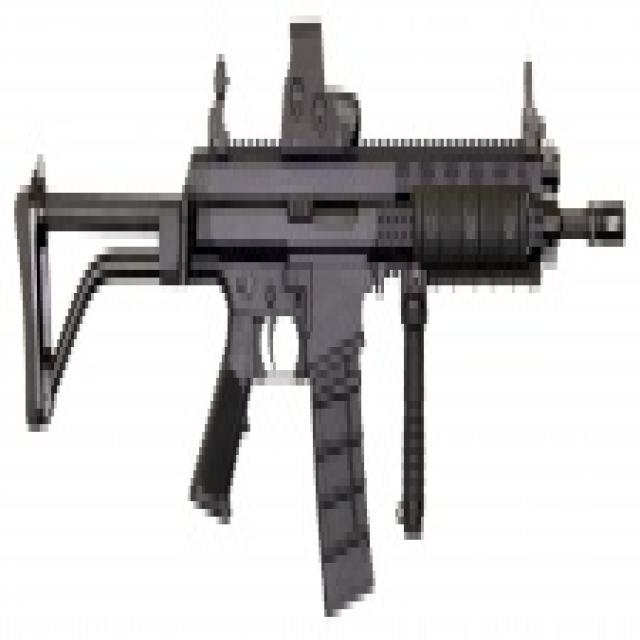rifle: (11, 7, 634, 640)
